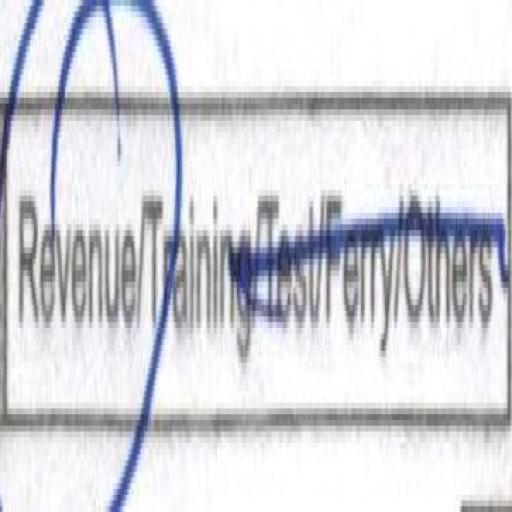check: (1, 22, 140, 490)
